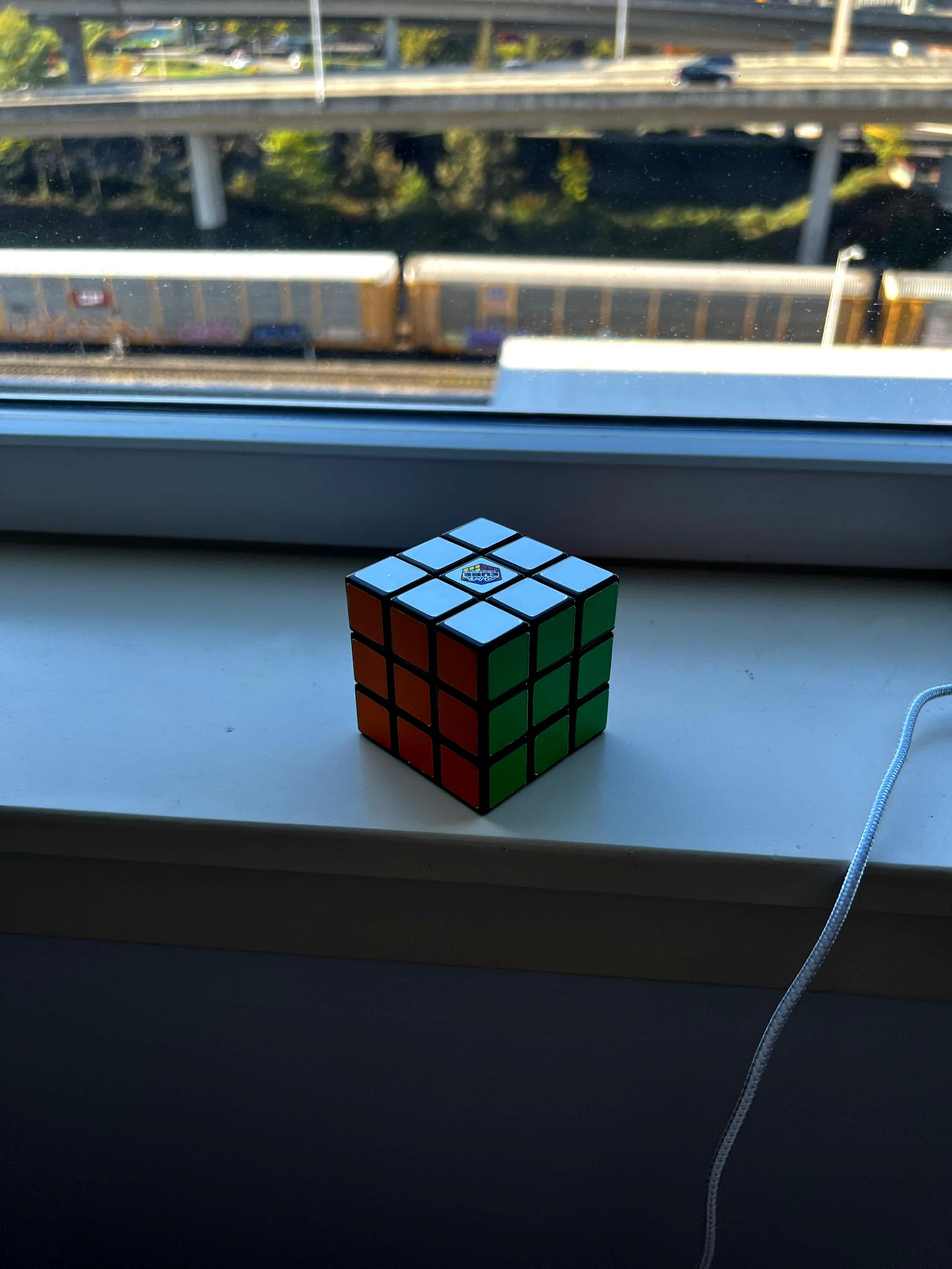rubiks_cube: (347, 518, 617, 808)
